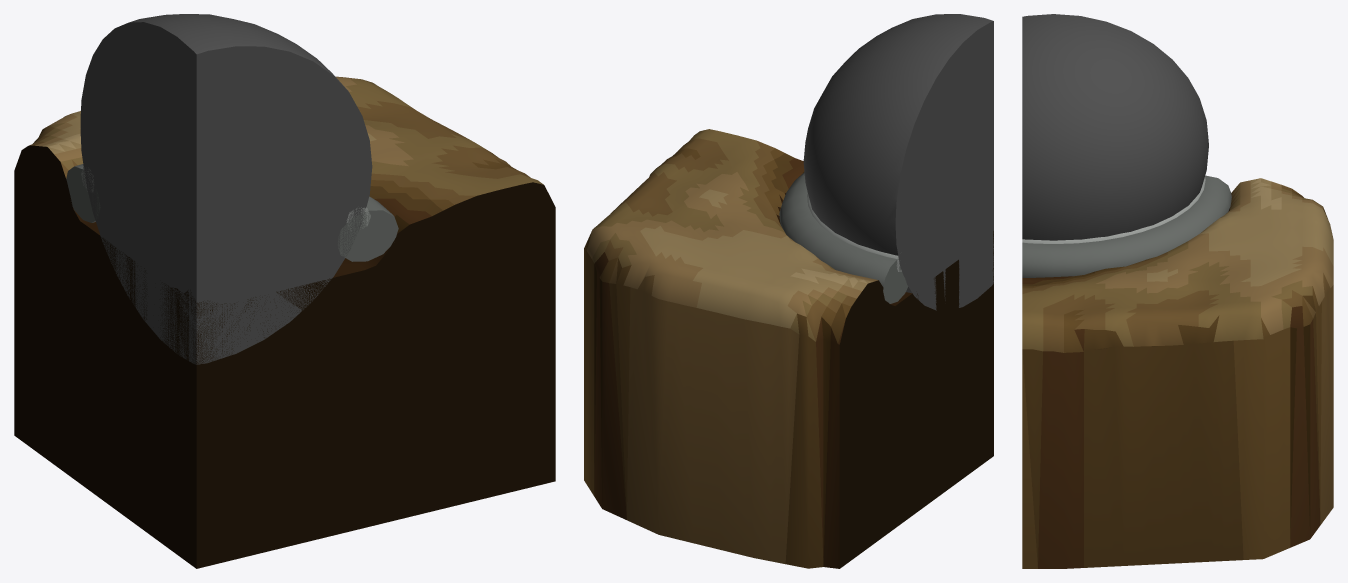
The model's file is mace_anchor_tr.glb.
3 views of the same model, side by side, from view 1: azimuth 30°, elevation 25°; view 2: azimuth 150°, elevation 25°; view 3: azimuth 270°, elevation 25° (orthographic). The views are drawn at different scales.
Parts seen in each view (by area): view 1: crate, ball, socket; view 2: crate, ball, socket; view 3: crate, ball, socket, socket_lip.
Part boxes in pixels (x1=…): crate: x1=14, y1=76, x2=555, y2=568; ball: x1=80, y1=14, x2=372, y2=364; socket: x1=66, y1=164, x2=398, y2=261; crate: x1=584, y1=129, x2=993, y2=568; ball: x1=803, y1=14, x2=993, y2=310; socket: x1=779, y1=172, x2=908, y2=303; crate: x1=1022, y1=178, x2=1333, y2=568; ball: x1=1022, y1=14, x2=1208, y2=240; socket: x1=1022, y1=175, x2=1231, y2=277; socket_lip: x1=1022, y1=177, x2=1205, y2=243.
Size of the model in its own units: 16 by 22.1 by 15.
